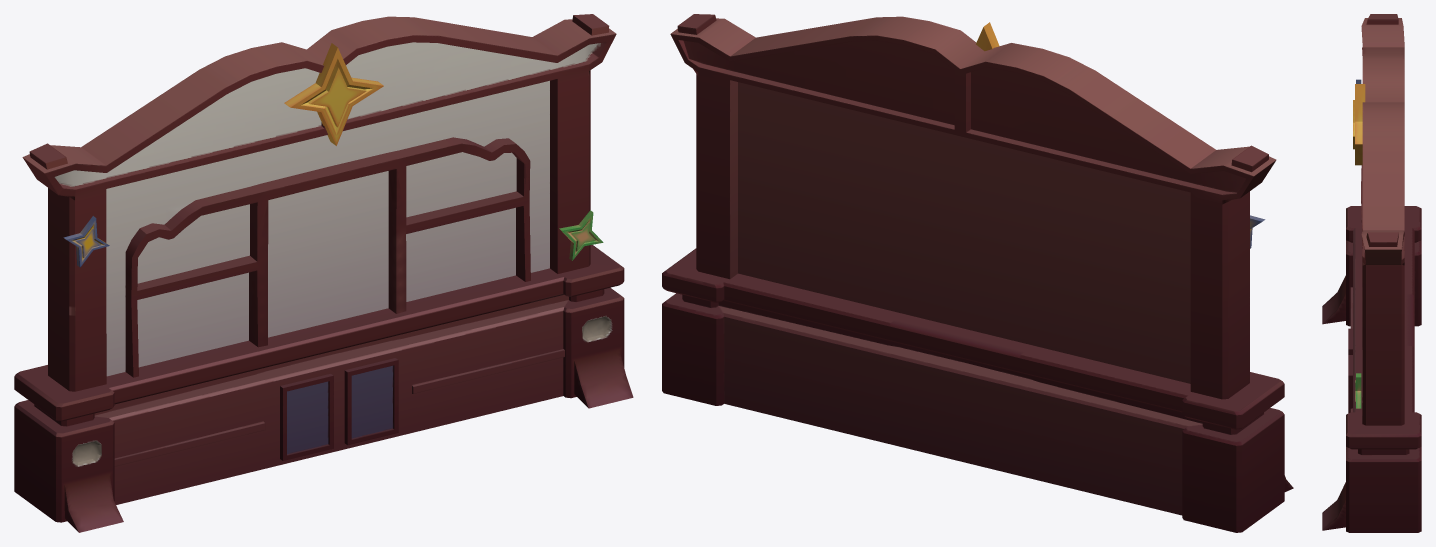
File: Board.fbx
3 renders of one model, left to right at view 1: azimuth 30°, elevation 25°; view 2: azimuth 150°, elevation 25°; view 3: azimuth 270°, elevation 25°, orthographic. The views are drawn at different scales.
Parts seen in each view (by area): view 1: Cube.044; view 2: Cube.044; view 3: Cube.044.
Boxes of the visible parts, x1,y1,x2,y2 form: Cube.044: (14,14,633,532); Cube.044: (662,14,1293,532); Cube.044: (1322,14,1421,532).
Bounding box in the file's own units: 506 × 341 × 91.45.
Materials: 1 (1 with a texture image).
